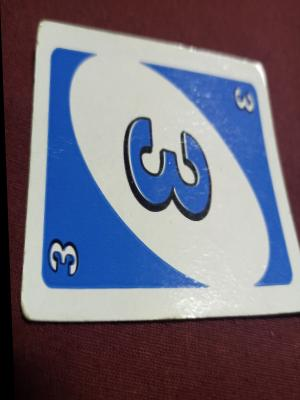num_3: (41, 233, 81, 280)
